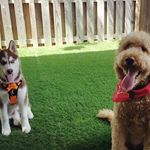puppy: (104, 26, 150, 148), (1, 37, 34, 135)
